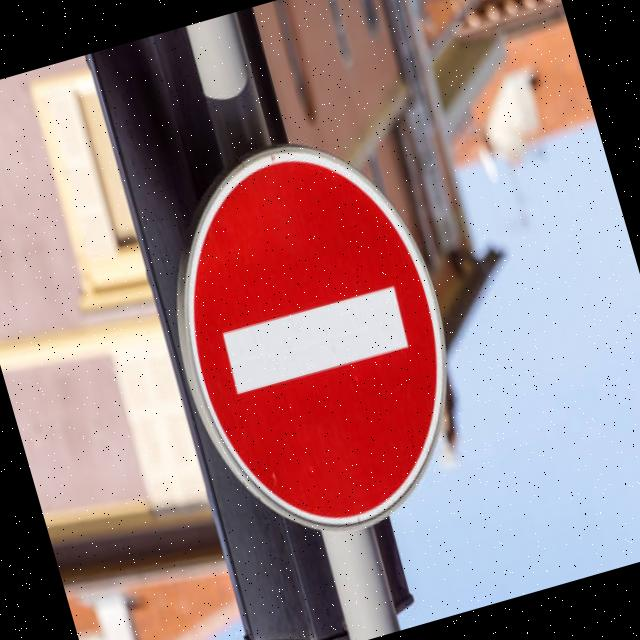do_not_enter: (129, 106, 501, 568)
